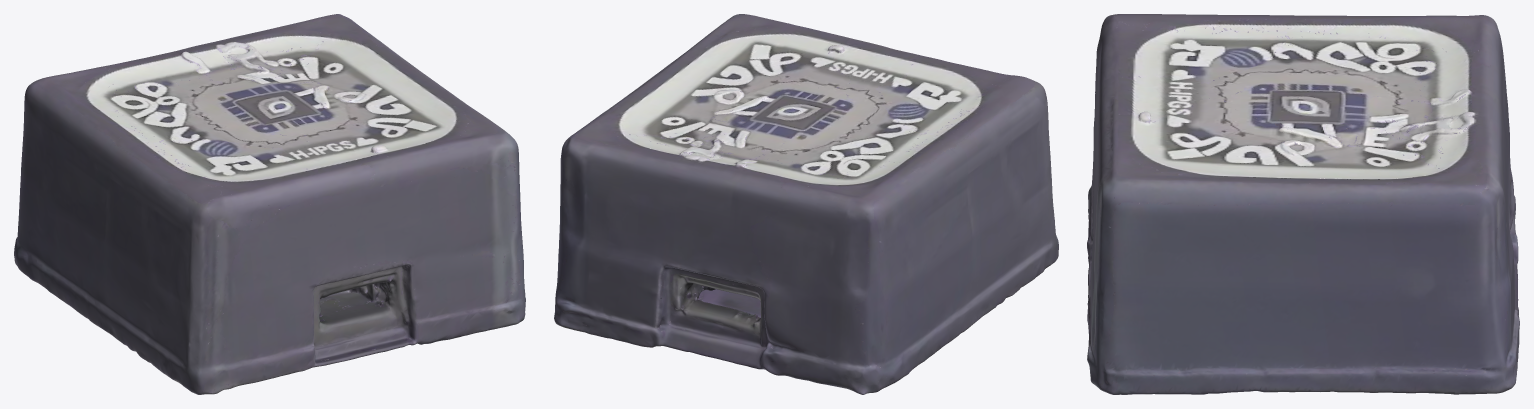
File: gps.glb
The picture shows the model from 3 angles, left to right: view 1: azimuth 30°, elevation 25°; view 2: azimuth 150°, elevation 25°; view 3: azimuth 270°, elevation 25°; orthographic projection. The views are drawn at different scales.
Bounding box in the file's own units: 2 × 1.07 × 1.97.
Materials: 1 (1 with a texture image).
